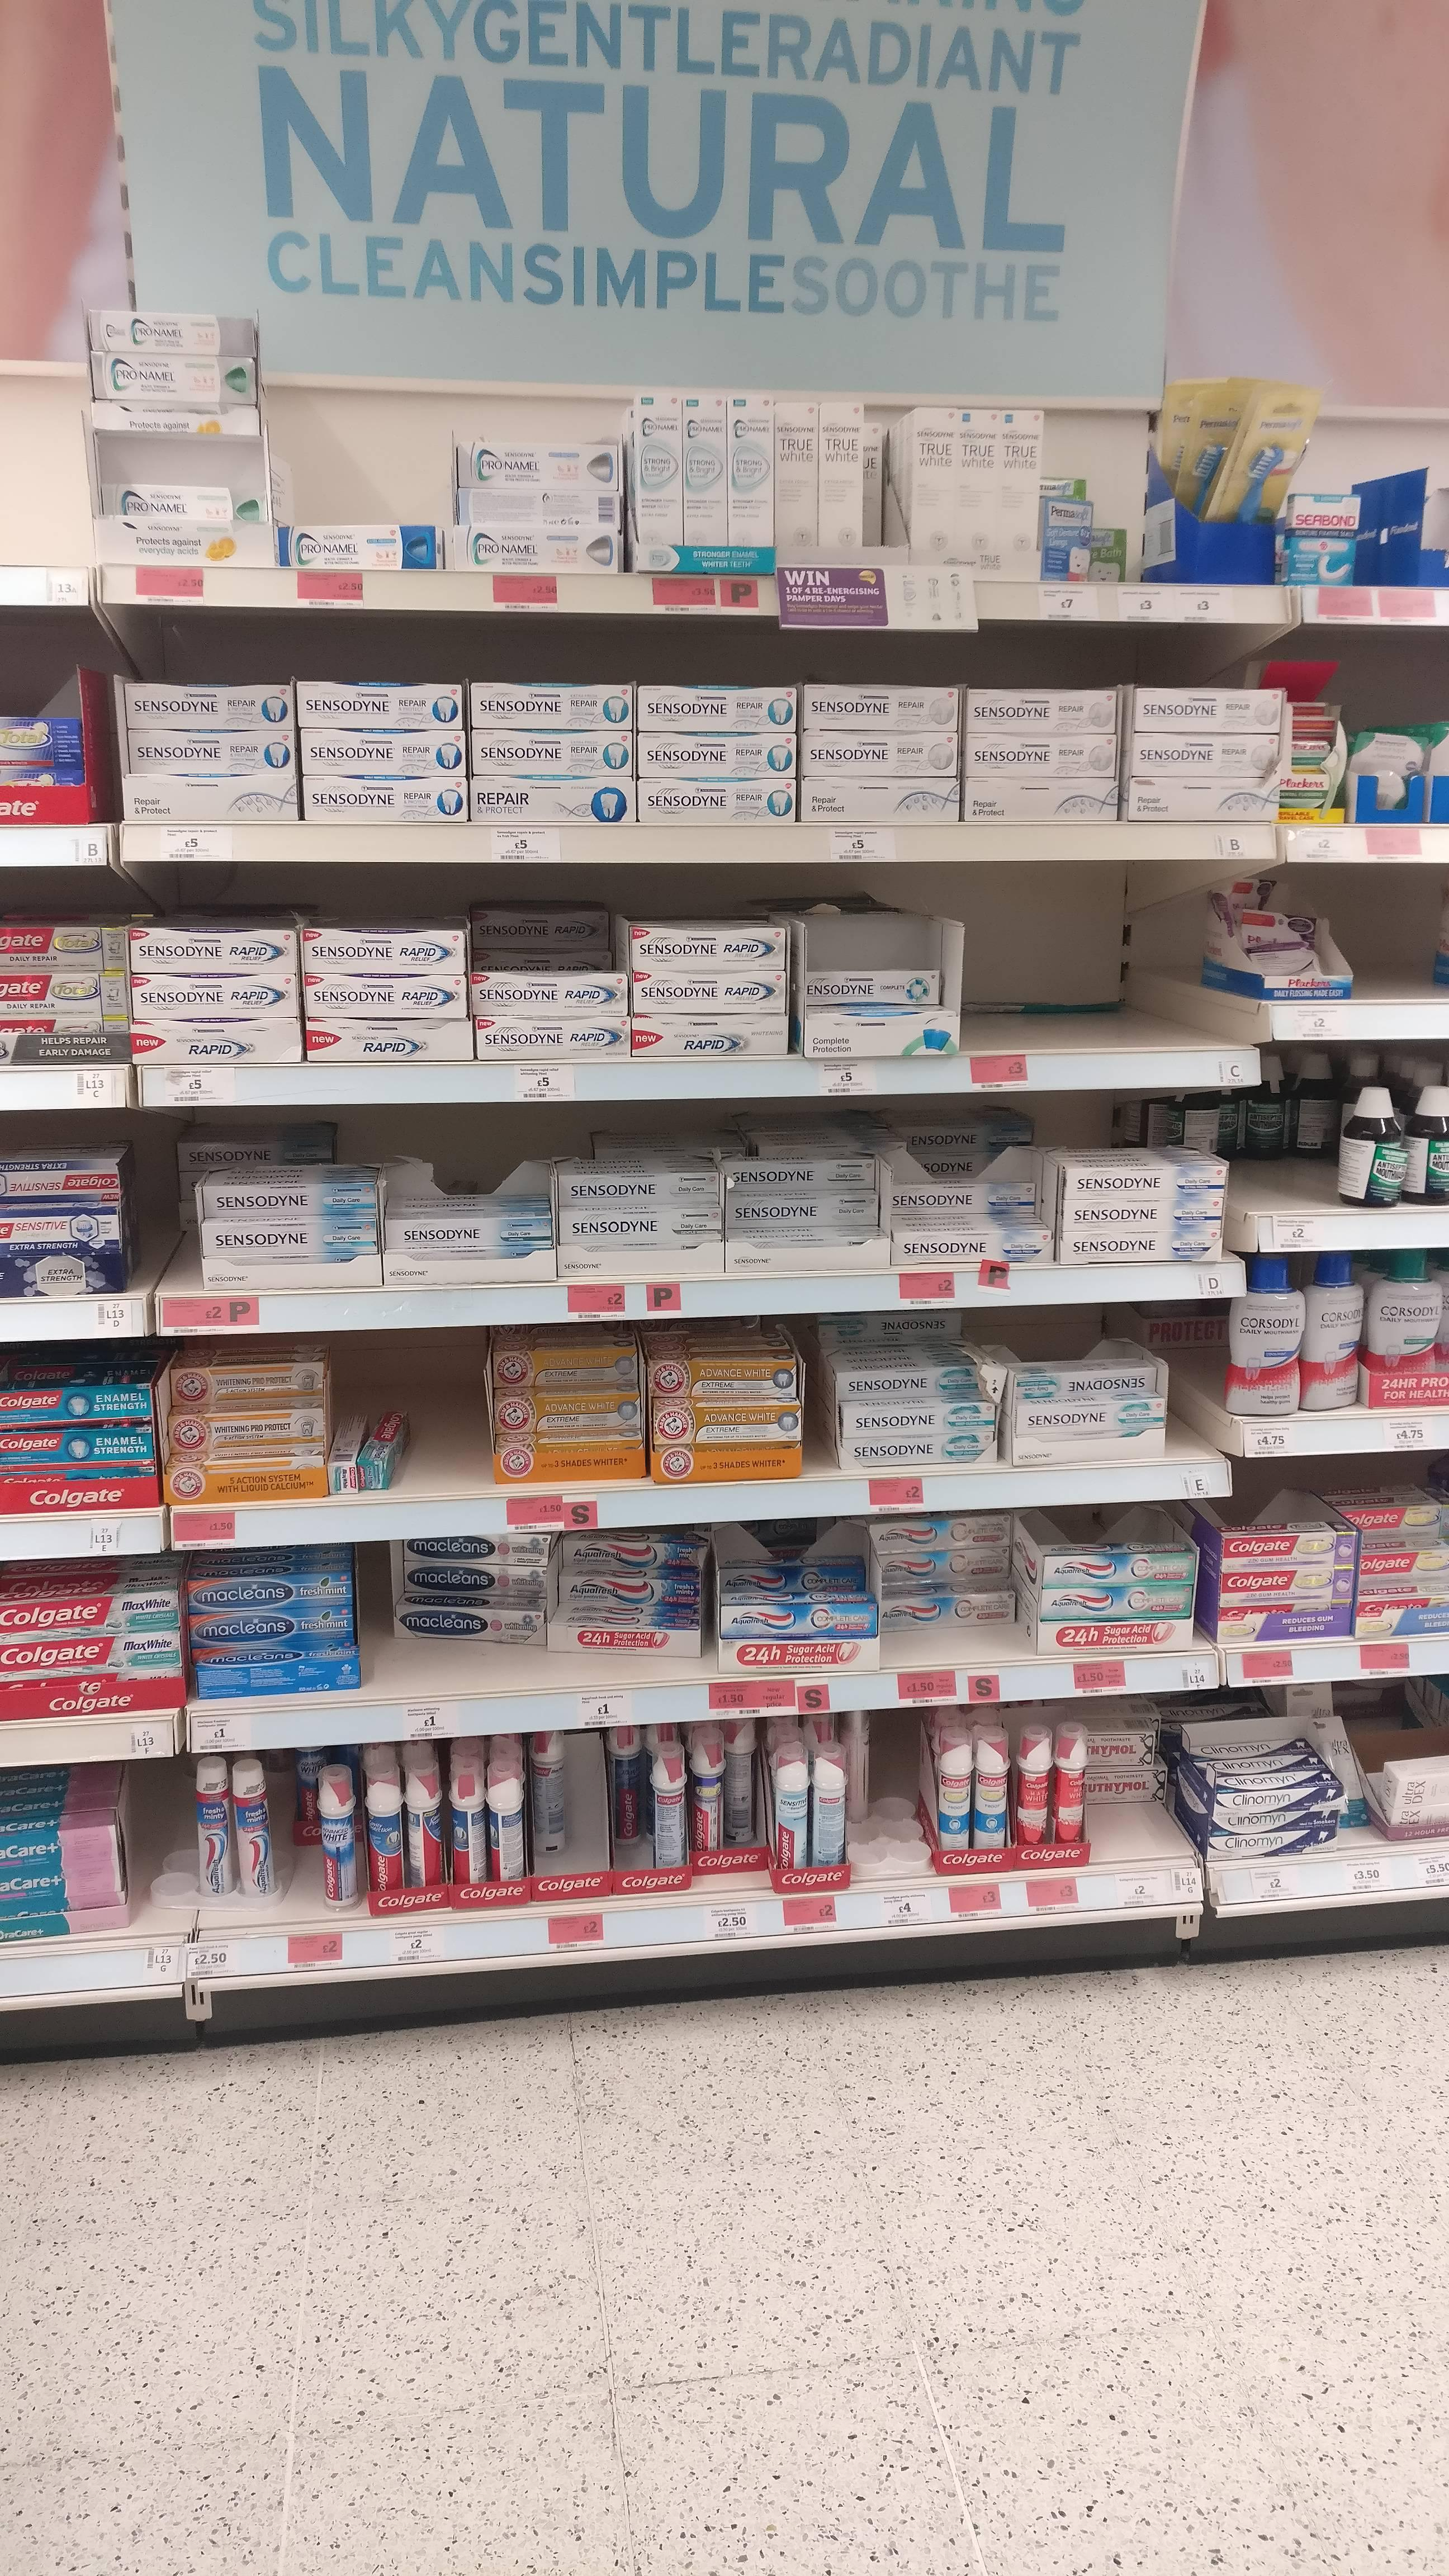empty: (971, 922, 1203, 1044), (393, 1346, 504, 1497)
